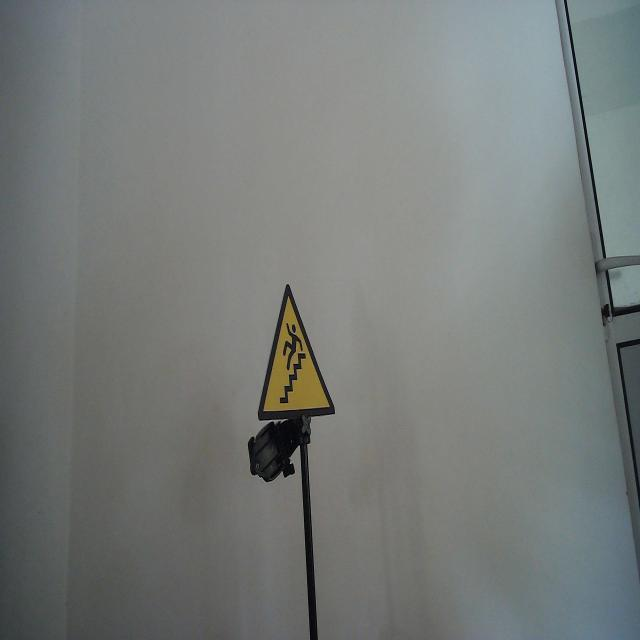stairs: (256, 282, 336, 424)
